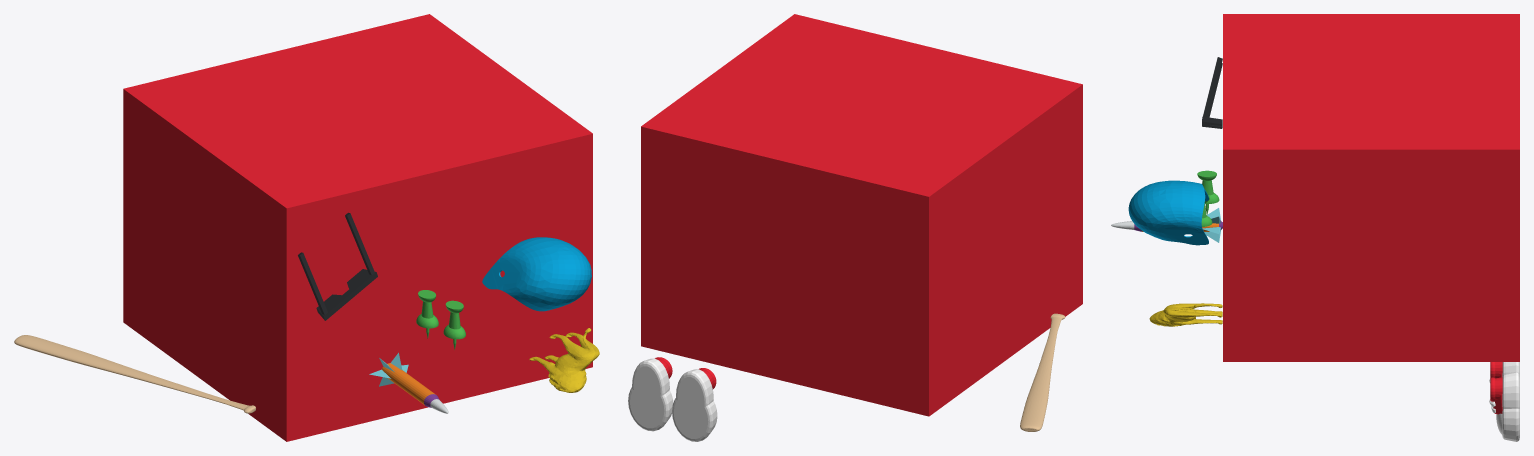
The model's file is tinker.obj.
3 renders of one model, left to right at view 1: azimuth 30°, elevation 25°; view 2: azimuth 150°, elevation 25°; view 3: azimuth 270°, elevation 25°, orthographic. The views are drawn at different scales.
Visible parts, largest first — view 1: group_0_15277357, group_0_40919, group_0_14860437, group_0_14400543, group_0_2829873, group_0_4634441, group_0_16089887; view 2: group_0_15277357, group_0_16448250, group_0_14860437; view 3: group_0_15277357, group_0_40919, group_0_16448250, group_0_14400543, group_0_2829873, group_0_4634441.
Part boxes in pixels (x1,y1,x2,y2): group_0_15277357: [123, 14, 592, 441]; group_0_40919: [482, 237, 591, 311]; group_0_14860437: [14, 335, 255, 413]; group_0_14400543: [529, 328, 599, 392]; group_0_2829873: [298, 212, 377, 320]; group_0_4634441: [416, 290, 465, 349]; group_0_16089887: [382, 363, 435, 405]; group_0_15277357: [641, 14, 1082, 416]; group_0_16448250: [628, 358, 717, 441]; group_0_14860437: [1020, 313, 1065, 431]; group_0_15277357: [1223, 14, 1519, 414]; group_0_40919: [1128, 180, 1208, 245]; group_0_16448250: [1489, 362, 1519, 441]; group_0_14400543: [1149, 303, 1222, 326]; group_0_2829873: [1202, 57, 1222, 128]; group_0_4634441: [1197, 170, 1219, 226].
Bounding box in the file's own units: 130 × 92.69 × 117.
